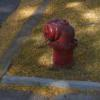Hydrant: (37, 11, 81, 73)
